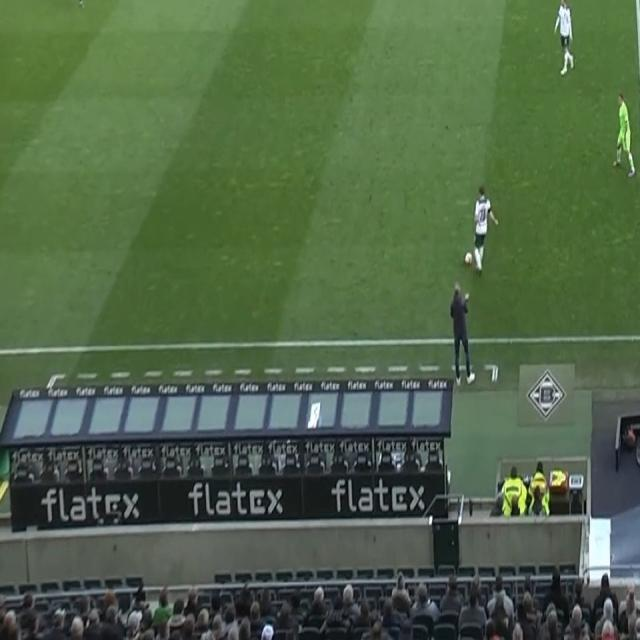ball: (464, 250, 473, 268)
